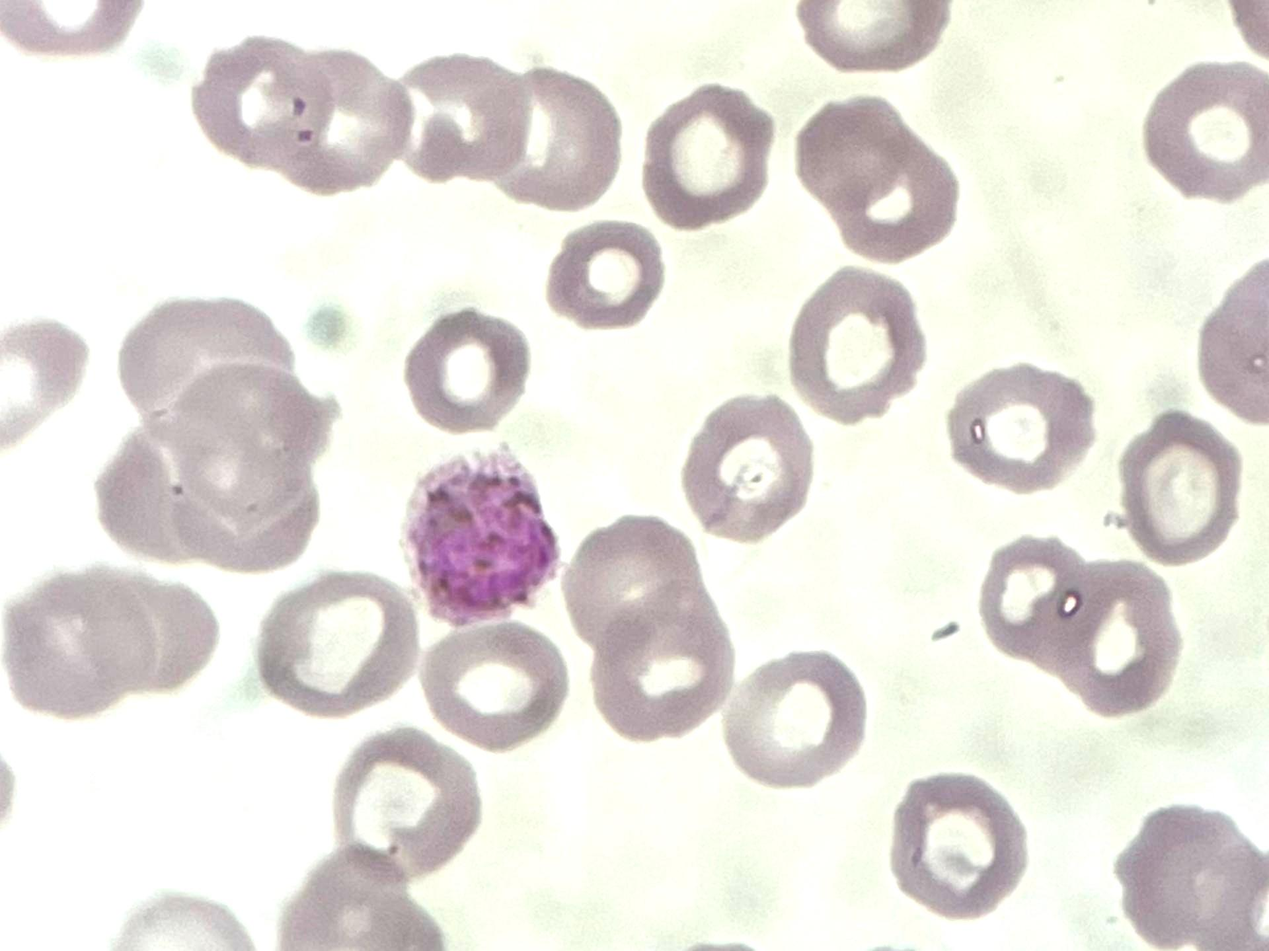Infected: (709, 323, 867, 501)
Uninfected: (925, 410, 1124, 586), (844, 235, 1013, 377), (0, 0, 155, 148), (788, 68, 933, 224), (1107, 230, 1261, 376), (856, 757, 1006, 905), (89, 232, 226, 391), (651, 737, 792, 890), (342, 526, 477, 685), (403, 157, 547, 302), (169, 456, 323, 587), (530, 205, 678, 341), (240, 32, 378, 177), (491, 721, 628, 867), (567, 293, 705, 435), (456, 410, 584, 557), (26, 387, 149, 539), (0, 747, 126, 894), (701, 199, 846, 323), (740, 769, 874, 899), (939, 785, 1076, 909), (735, 516, 867, 640), (314, 688, 444, 813), (175, 291, 289, 413), (601, 618, 723, 727), (357, 741, 472, 855)
